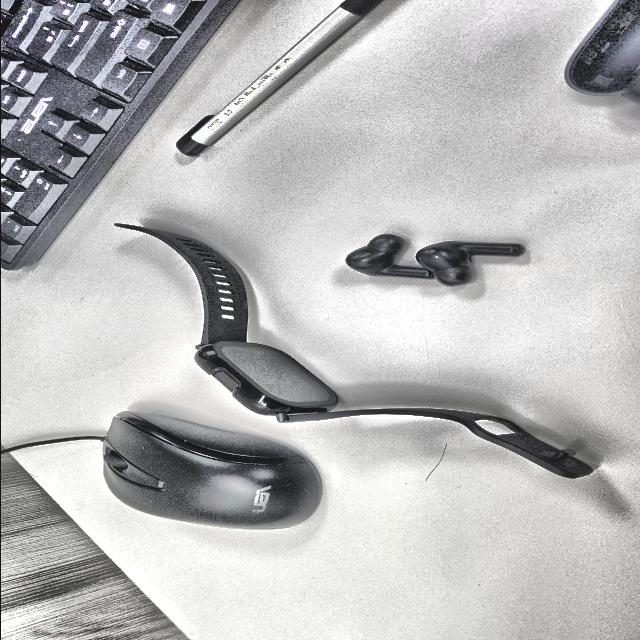Bluetooth headphones: (345, 234, 523, 286)
Electronic watch: (194, 341, 336, 416)
Keyboard: (0, 0, 239, 270)
MOUSE: (102, 412, 320, 529)
